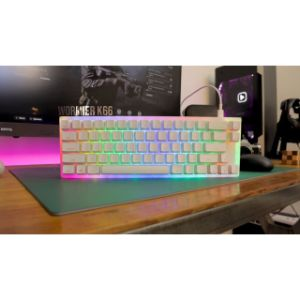keyboard: (58, 115, 241, 180)
mouse: (238, 151, 274, 175)
